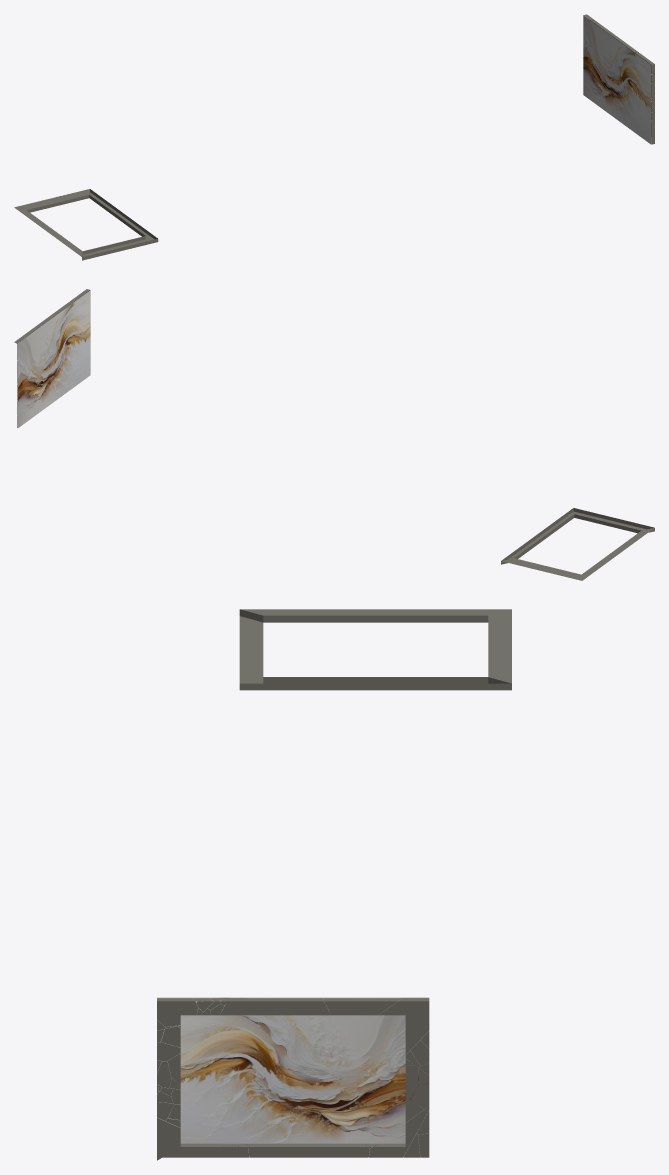
The model's file is painting_test3.glb.
The picture shows the model from 3 angles, top to bottom: view 1: azimuth 30°, elevation 25°; view 2: azimuth 150°, elevation 25°; view 3: azimuth 270°, elevation 25°; orthographic projection. The views are drawn at different scales.
Visible parts, largest first — view 1: Plane.007, Plane.002; view 2: Plane.007, Plane.002; view 3: Plane.002, Plane.007_cell.002, Plane.007_cell.001, Plane.007_cell.003_cell.001, Plane.007_cell_cell.001, Plane.002_cell.004, Plane.002_cell.008, Plane.007_cell_cell.002, Plane.002_cell.005, Plane.007_cell_cell.003, Plane.002_cell.002, Plane.007_cell.003_cell.002 (+4 smaller).
Boxes of the visible parts, x1,y1,x2,y2 form: Plane.007: (583, 15, 651, 144); Plane.002: (14, 189, 158, 260); Plane.007: (18, 290, 90, 427); Plane.002: (501, 508, 654, 580); Plane.002: (239, 609, 511, 690); Plane.007_cell.002: (286, 997, 429, 1083); Plane.007_cell.001: (157, 1072, 295, 1156); Plane.007_cell.003_cell.001: (292, 1080, 381, 1143); Plane.007_cell_cell.001: (214, 1034, 290, 1076); Plane.002_cell.004: (220, 998, 330, 1015); Plane.002_cell.008: (157, 1118, 248, 1160); Plane.007_cell_cell.002: (217, 997, 287, 1042); Plane.002_cell.005: (248, 1143, 369, 1157); Plane.007_cell_cell.003: (157, 1033, 216, 1079); Plane.002_cell.002: (379, 998, 429, 1054); Plane.007_cell.003_cell.002: (370, 1082, 428, 1124).
Size of the model in its own units: 22.48 by 3.1 by 6.26.
2 materials, 1 textured.
